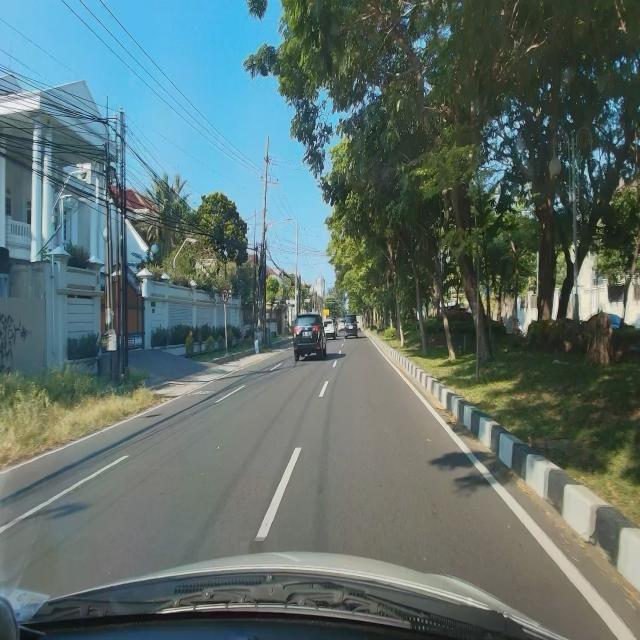car: (292, 312, 328, 362)
